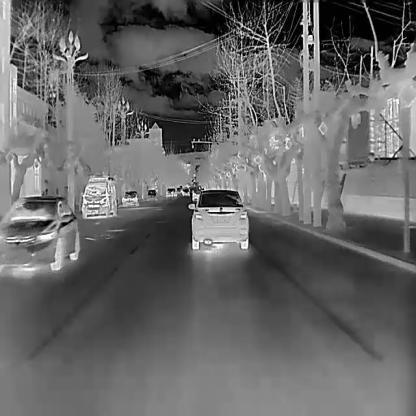car: (0, 195, 79, 270), (191, 189, 248, 249), (82, 174, 117, 217), (122, 190, 139, 206), (147, 189, 157, 200), (192, 190, 200, 201), (166, 188, 175, 196), (181, 188, 189, 196)
